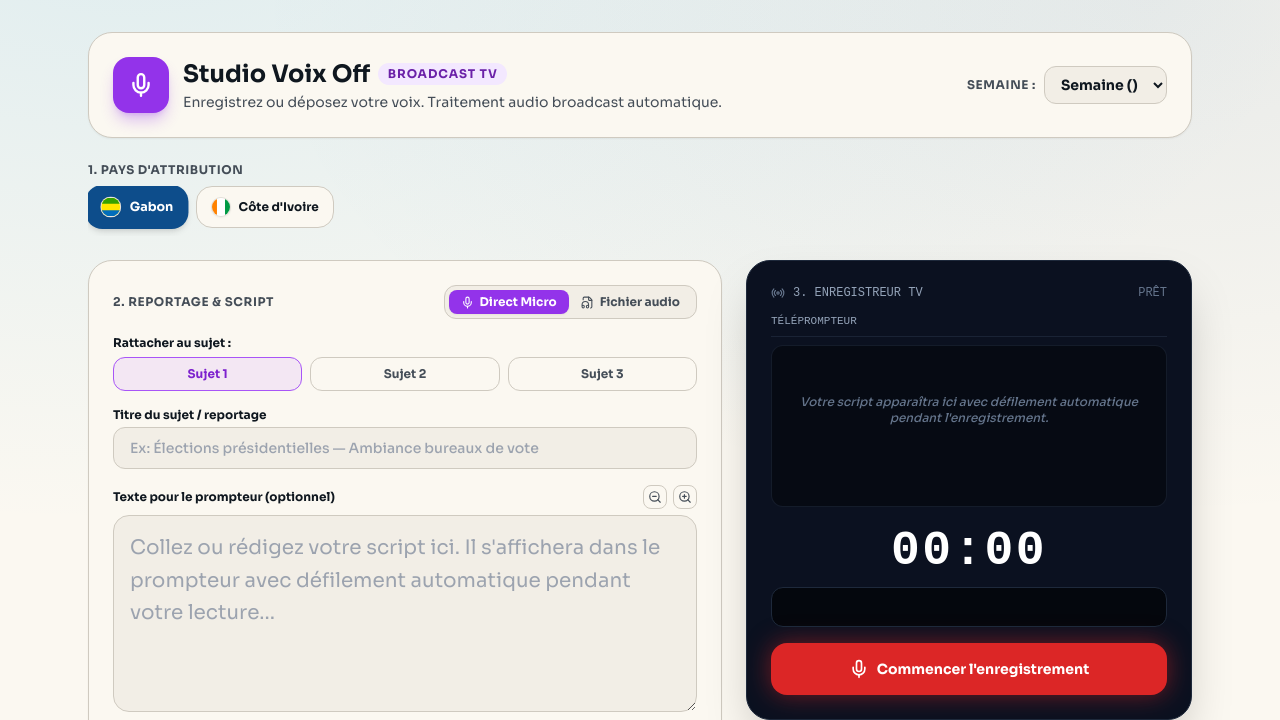
Test: VoixOffView › allows switching between reportage subjects (1, 2, 3) (montage)
Step 1. Click the button "Sujet 2" → [405, 374], box [310, 357, 500, 391]
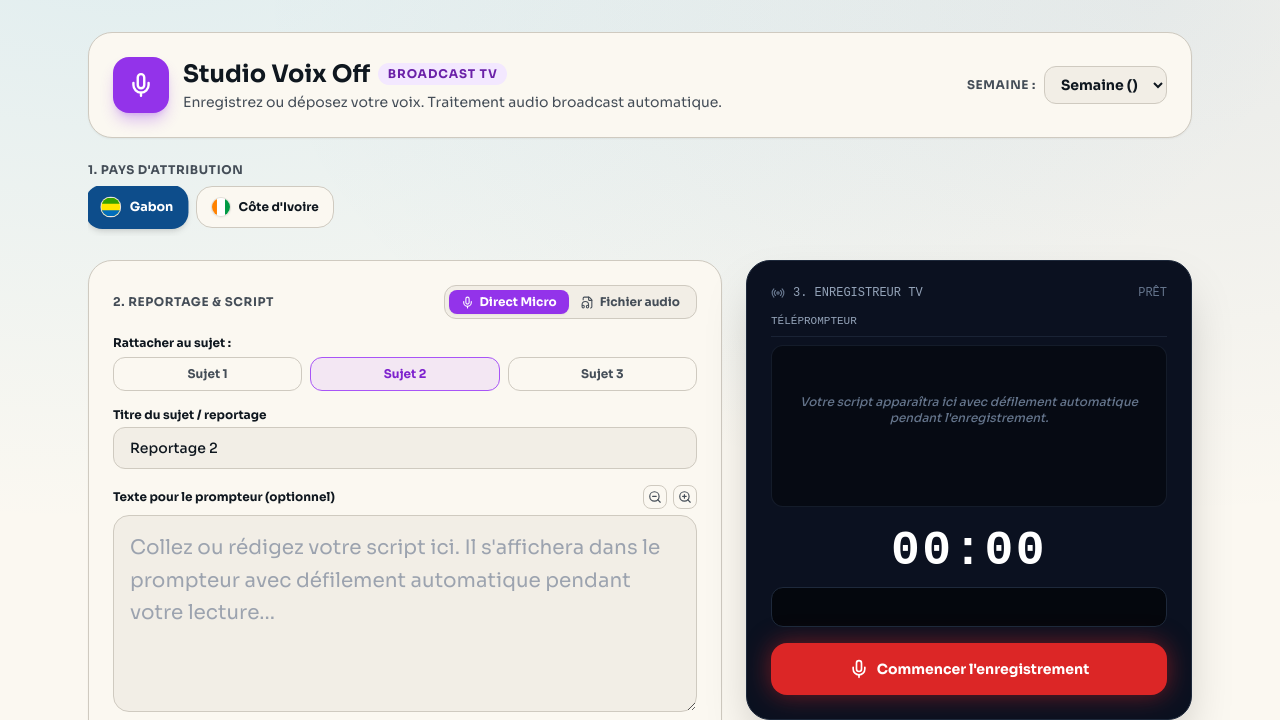
Expected: the field with placeholder "Ex: Élections présidentielles — Ambiance bureaux de vote" holds "Reportage 2", [113, 427, 697, 469]
